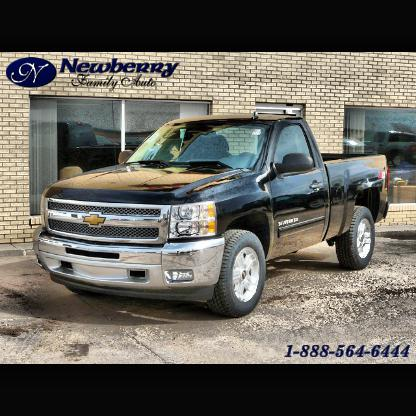Chevrolet Silverado 2500HD Regular Cab 2012: (36, 115, 390, 319)
